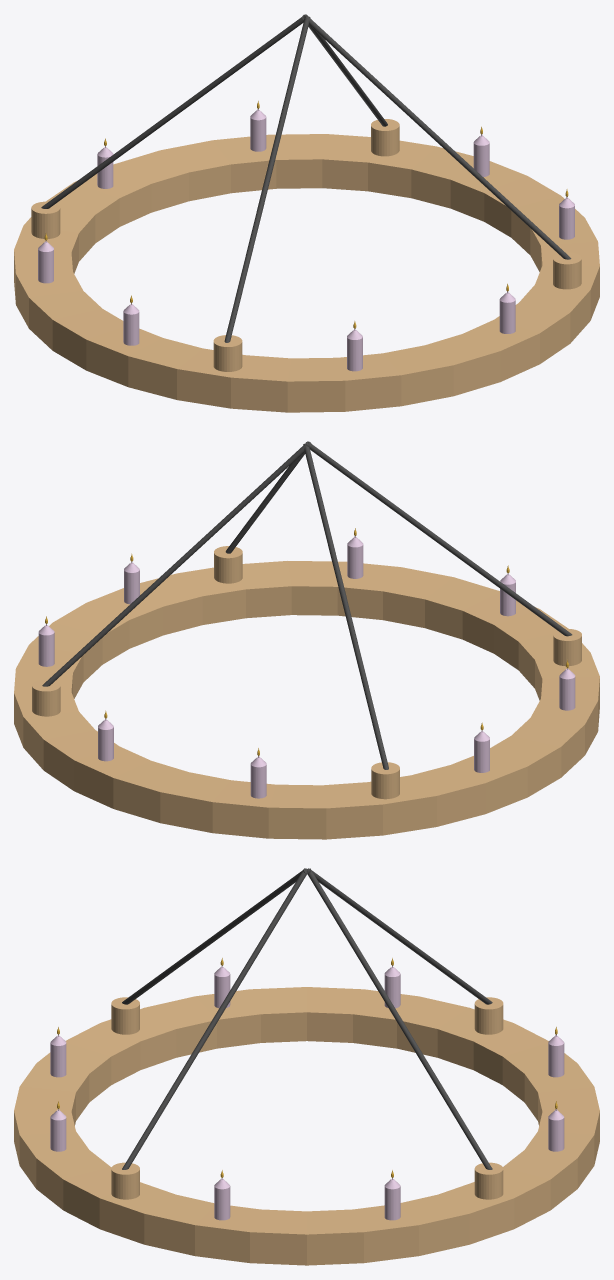
File: lustrechalet.fbx
3 views of the same model, one above another, from view 1: azimuth 30°, elevation 25°; view 2: azimuth 150°, elevation 25°; view 3: azimuth 270°, elevation 25° (orthographic).
Visible parts, largest first — view 1: cadran, Cylinder, support, bougies, bougies.001; view 2: cadran, Cylinder, support, bougies, bougies.001; view 3: cadran, Cylinder, support, bougies.001, bougies.
Boxes of the visible parts, x1,y1,x2,y2 form: cadran: (14, 134, 599, 412); Cylinder: (41, 14, 571, 342); support: (31, 119, 581, 371); bougies: (38, 126, 574, 345); bougies.001: (97, 101, 515, 371); cadran: (14, 561, 599, 839); Cylinder: (42, 441, 572, 769); support: (32, 546, 581, 799); bougies: (38, 553, 575, 772); bougies.001: (98, 528, 515, 798); cadran: (14, 987, 599, 1265); Cylinder: (122, 868, 492, 1169); support: (111, 997, 503, 1199); bougies.001: (50, 1027, 564, 1151); bougies: (214, 958, 400, 1220).
Size of the model in its own units: 566 by 291 by 566.
